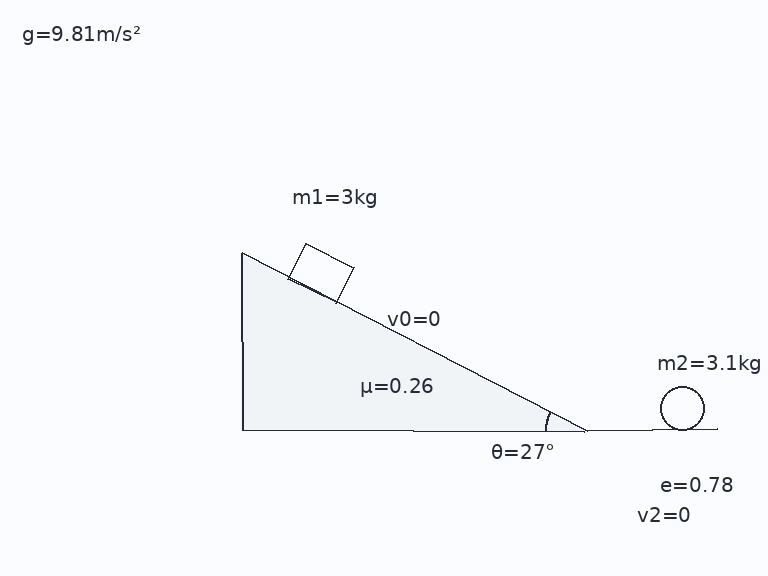ball: (658, 384, 706, 432)
block: (286, 241, 355, 304)
ramp: (239, 252, 588, 432)
